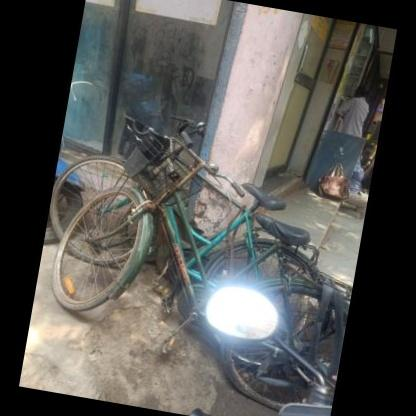Bicycle: (45, 128, 358, 414)
